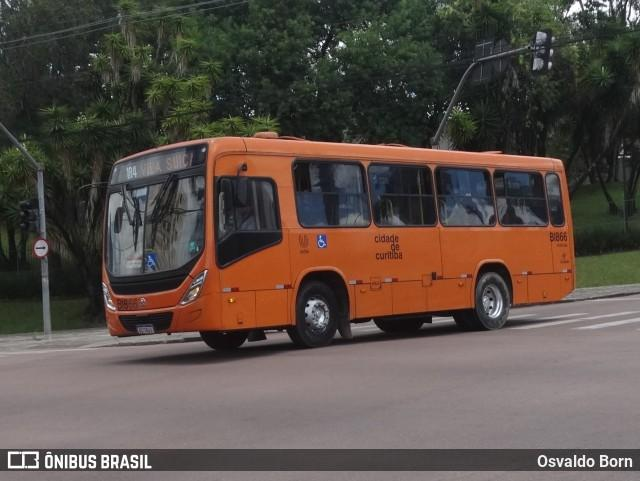VILA SUICA: (136, 148, 200, 176)
